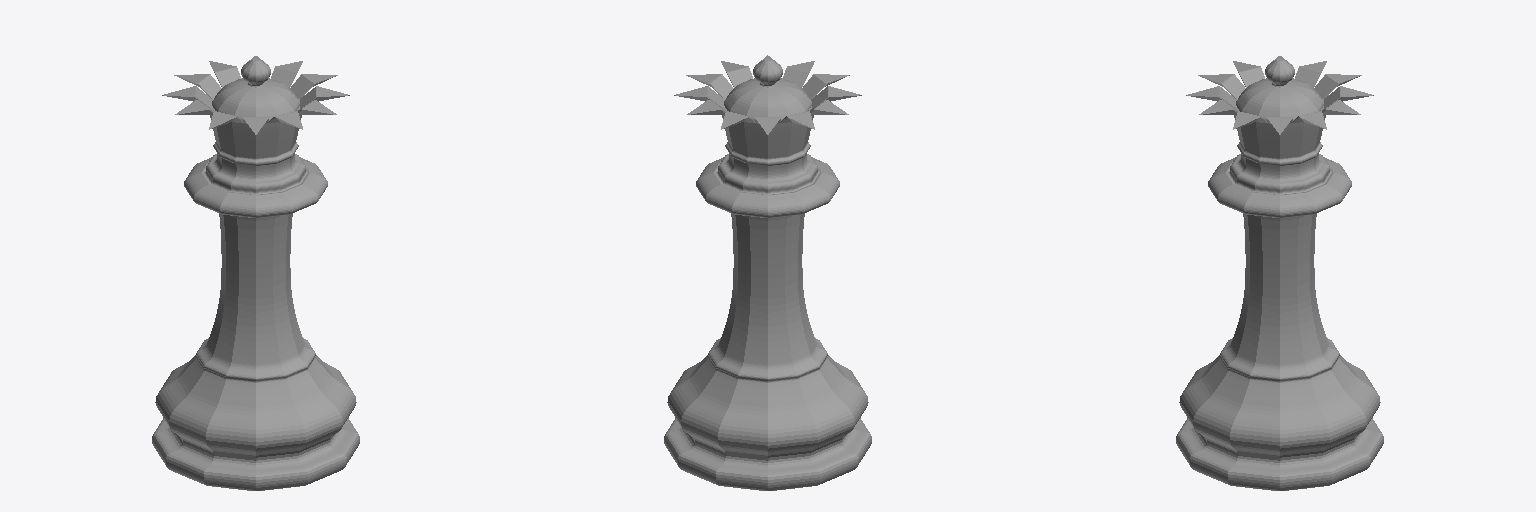
Rendered from queen.obj.
3 views of the same model, side by side, from view 1: azimuth 30°, elevation 25°; view 2: azimuth 150°, elevation 25°; view 3: azimuth 270°, elevation 25° (orthographic).
Parts seen in each view (by area): view 1: mesh01.005; view 2: mesh01.005; view 3: mesh01.005.
Part boxes in pixels (bbox=[...]): mesh01.005: bbox=[152, 56, 359, 490]; mesh01.005: bbox=[664, 55, 871, 490]; mesh01.005: bbox=[1176, 56, 1383, 490].
Size of the model in its own units: 14.93 by 30.95 by 14.93.